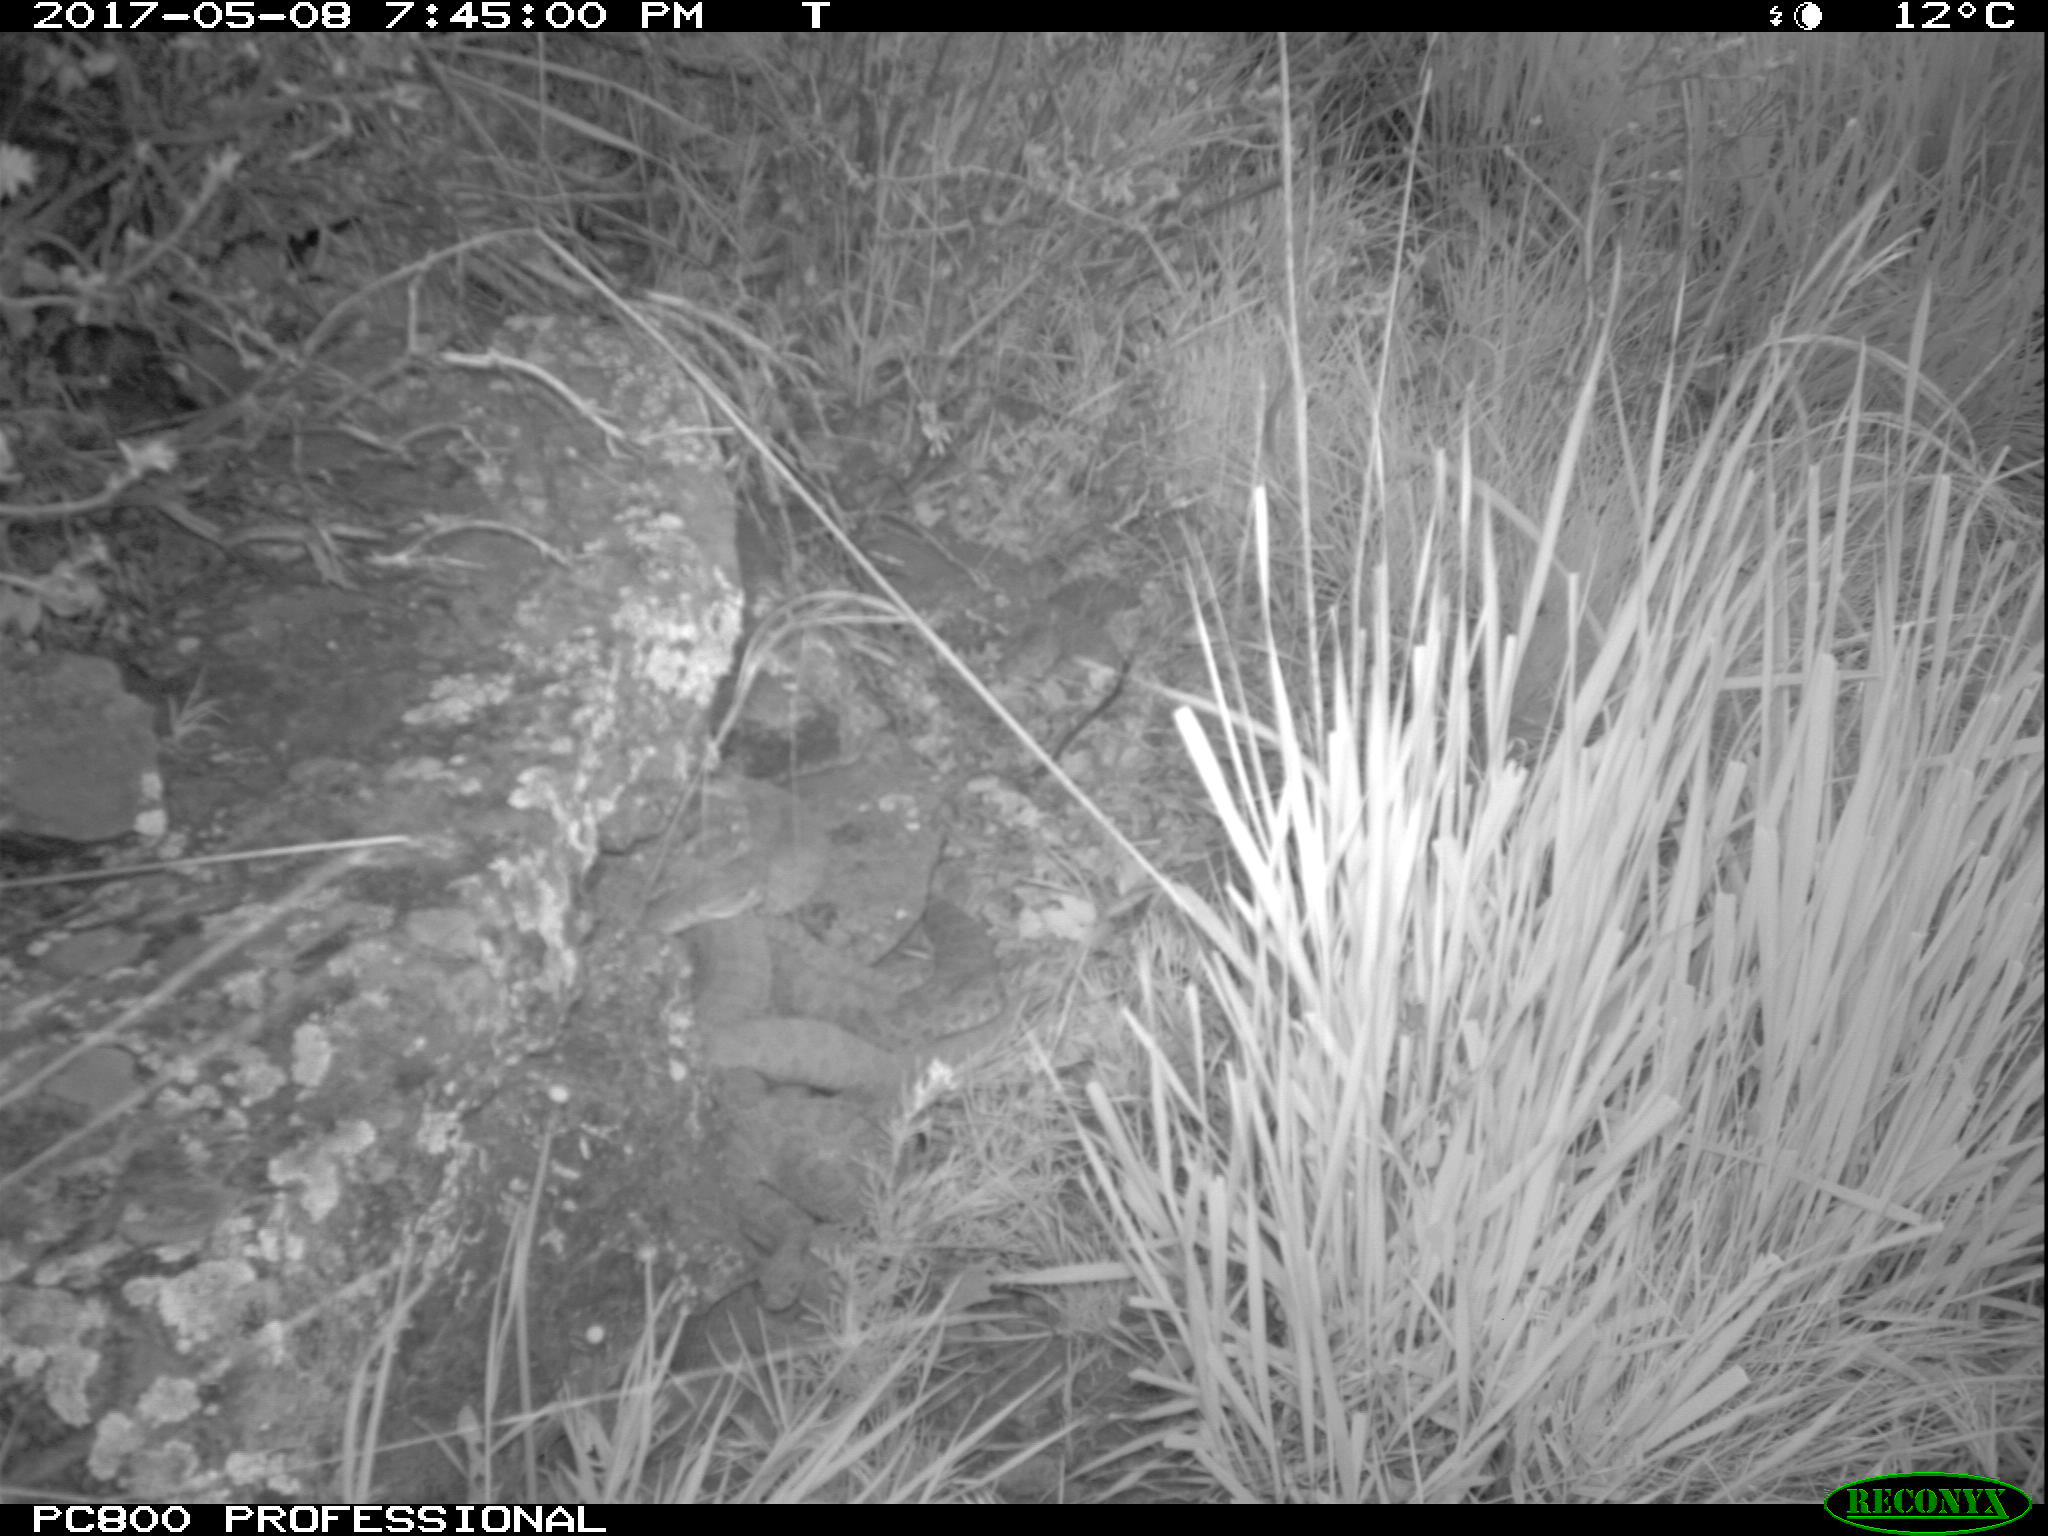snake: (656, 894, 989, 1096), (721, 1096, 897, 1300)
